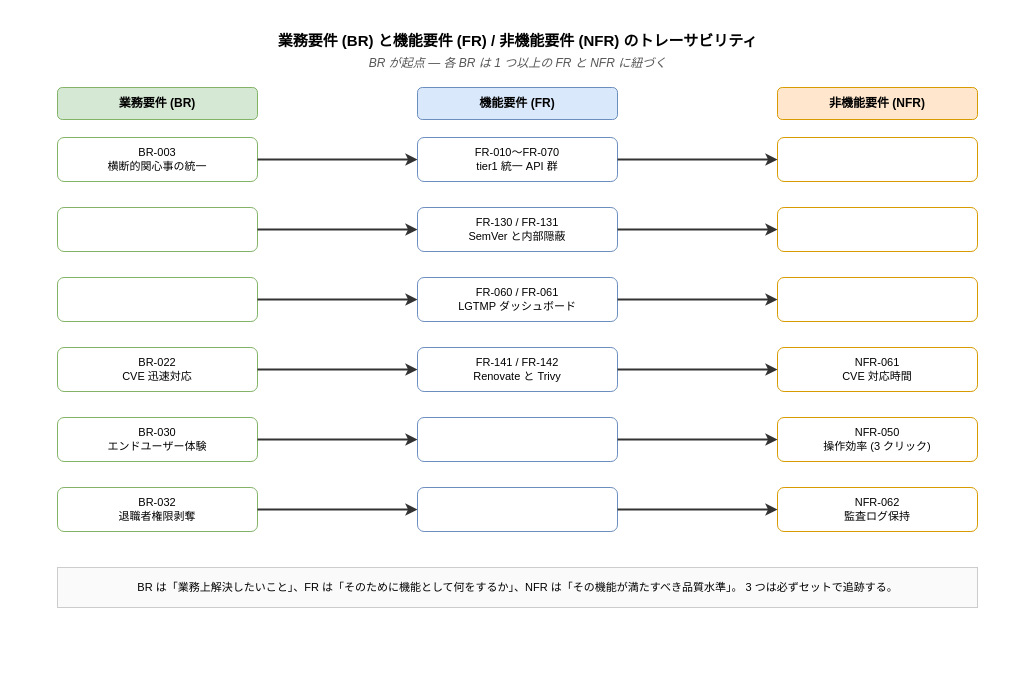
Some shapes in this 1034 by 674 pixel diagram are drawn without their labels. Here are the shapes that lost their labels. From the top down, the centre of each, then its label:
At [877,159]: "NFR-001 tier1 API レイテンシ".
At [157,229]: "BR-007 5 年後の継続性".
At [877,229]: "NFR-076 可搬性".
At [157,299]: "BR-020 監視・ログ一元化".
At [877,299]: "NFR-040 ログ保持期間".
At [517,439]: "FR-090 アプリ配信ポータル".
At [517,509]: "FR-011 / FR-030 Auth と Audit".
